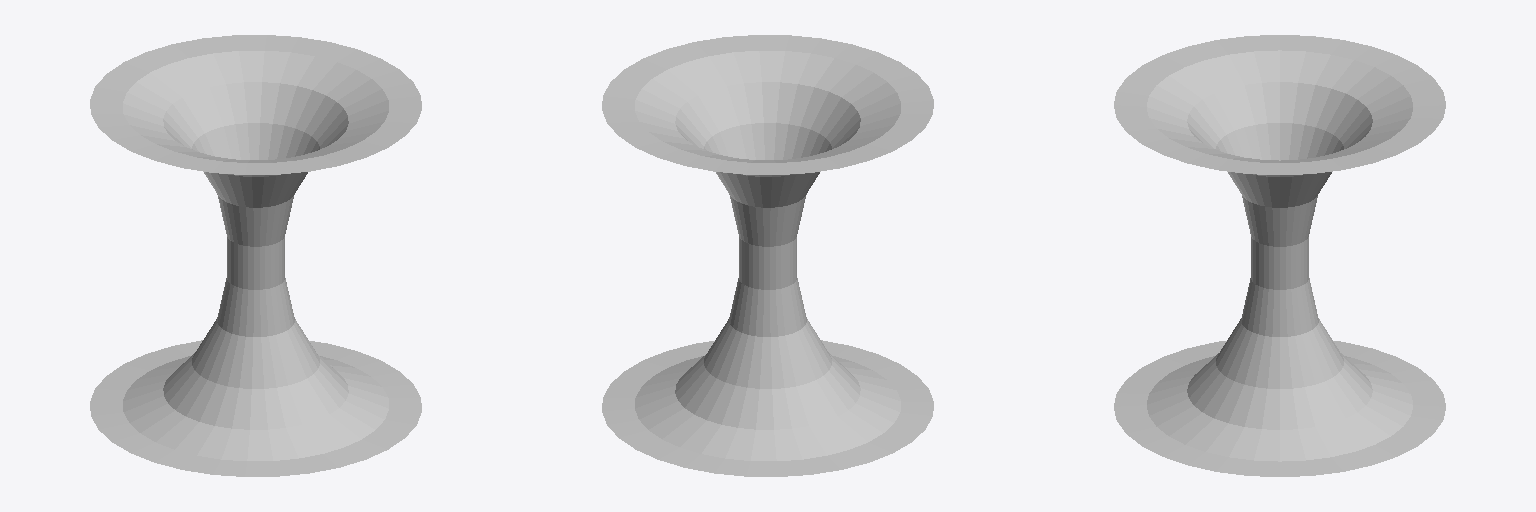
The model's file is spool.obj.
3 renders of one model, left to right at view 1: azimuth 30°, elevation 25°; view 2: azimuth 150°, elevation 25°; view 3: azimuth 270°, elevation 25°, orthographic.
Parts seen in each view (by area): view 1: Circle; view 2: Circle; view 3: Circle.
Part boxes in pixels (left/top/right/bottom): Circle: left=90, top=35, right=421, bottom=476; Circle: left=602, top=35, right=933, bottom=476; Circle: left=1114, top=35, right=1445, bottom=476.
Bounding box in the file's own units: 1 × 1 × 0.9999.